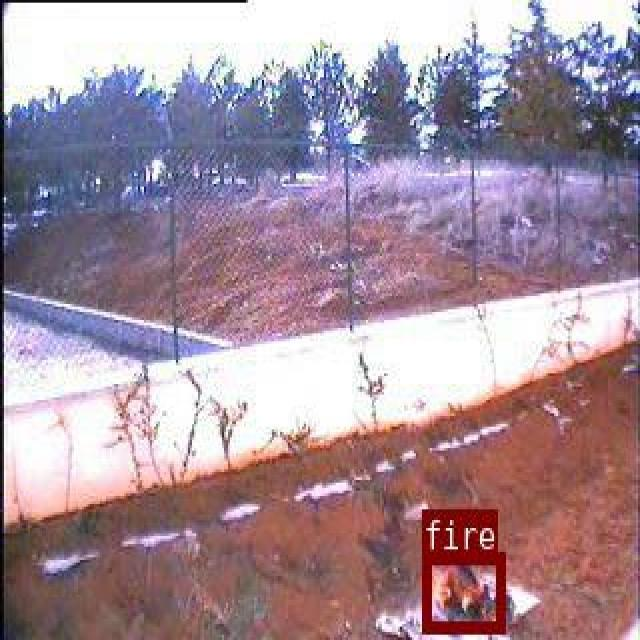fire: (421, 551, 503, 632)
